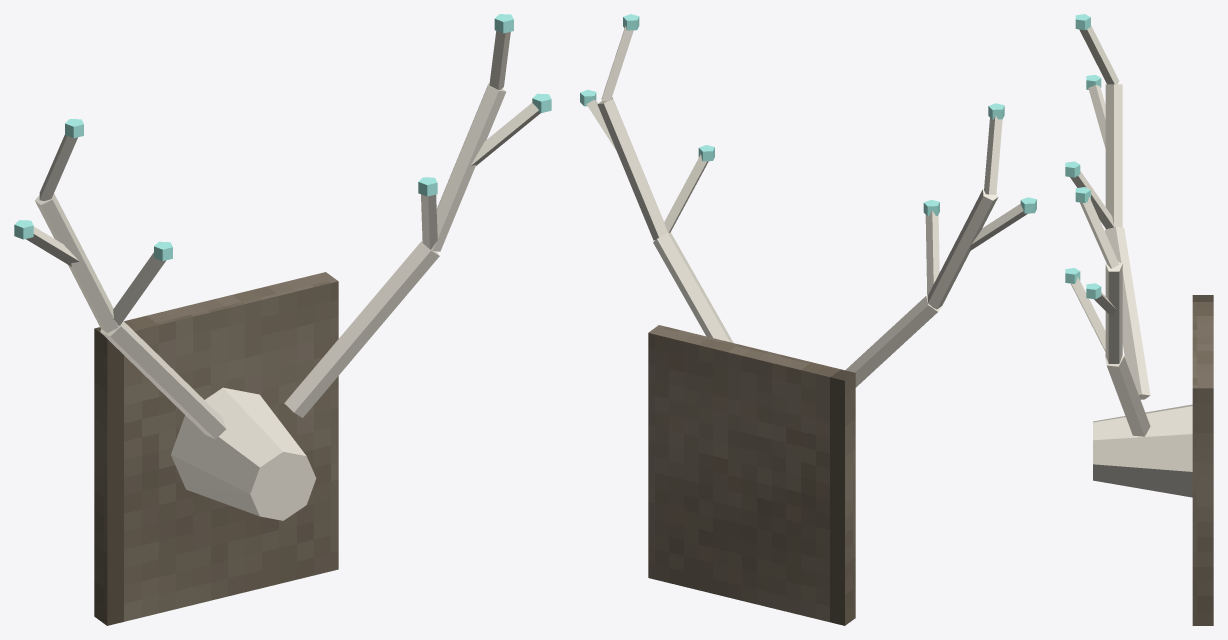
Rendered from trophy_antlers.obj.
The picture shows the model from 3 angles, left to right: view 1: azimuth 30°, elevation 25°; view 2: azimuth 150°, elevation 25°; view 3: azimuth 270°, elevation 25°; orthographic projection. The views are drawn at different scales.
Visible parts, largest first — view 1: trophy_antlers; view 2: trophy_antlers; view 3: trophy_antlers.
Boxes of the visible parts, box(x1,y1,x2,y2) form: trophy_antlers: box(14, 14, 551, 625); trophy_antlers: box(580, 14, 1036, 625); trophy_antlers: box(1065, 14, 1213, 625).
Size of the model in its own units: 0.9704 by 1 by 0.2829.
